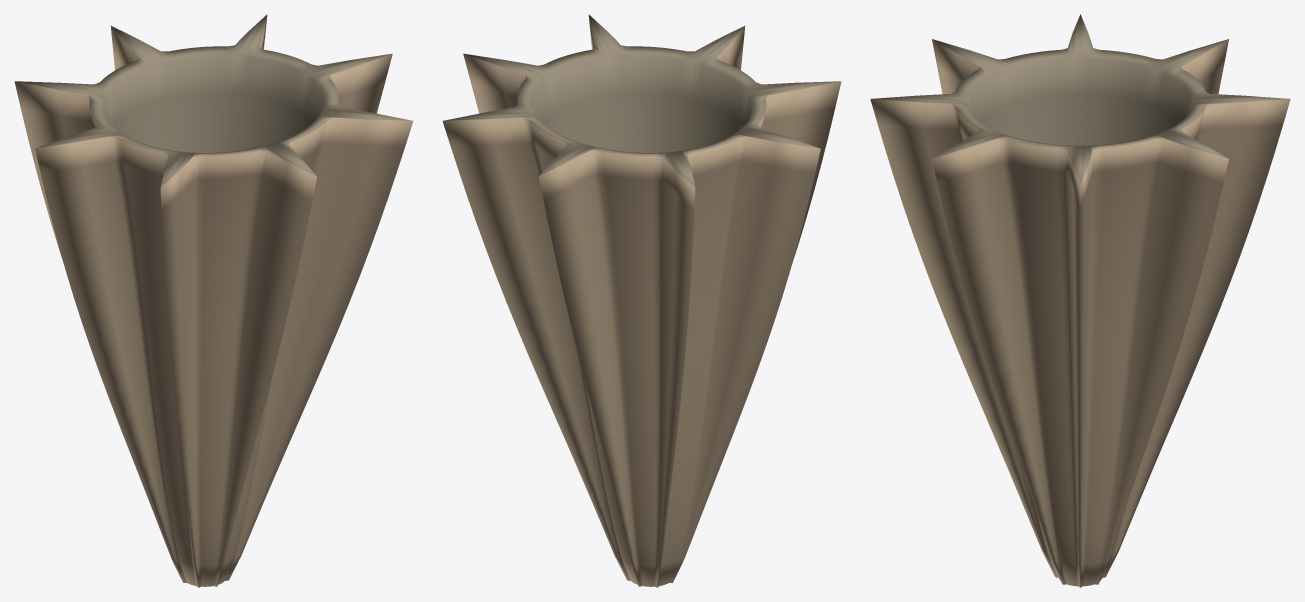
Rendered from takakkawia.glb.
3 renders of one model, left to right at view 1: azimuth 30°, elevation 25°; view 2: azimuth 150°, elevation 25°; view 3: azimuth 270°, elevation 25°, orthographic.
Parts seen in each view (by area): view 1: continuous-conical-cup-eight-longitudinal-blade-fins-and-rea; view 2: continuous-conical-cup-eight-longitudinal-blade-fins-and-rea; view 3: continuous-conical-cup-eight-longitudinal-blade-fins-and-rea.
Part boxes in pixels (box(x1,y1,x2,y2)): continuous-conical-cup-eight-longitudinal-blade-fins-and-rea: box(14, 14, 413, 587); continuous-conical-cup-eight-longitudinal-blade-fins-and-rea: box(442, 14, 841, 587); continuous-conical-cup-eight-longitudinal-blade-fins-and-rea: box(870, 14, 1290, 587).
Size of the model in its own units: 0.1174 by 0.15 by 0.1174.
